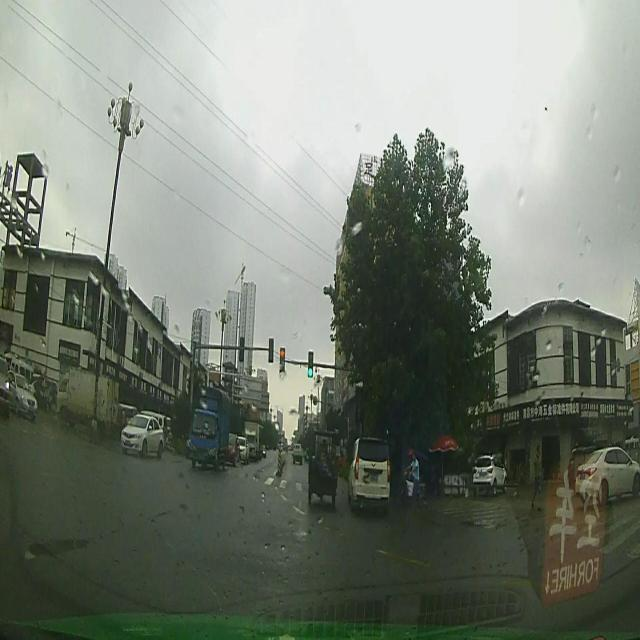car: (572, 445, 640, 501), (348, 432, 392, 510), (120, 412, 167, 456), (1, 369, 39, 419), (470, 450, 508, 494), (234, 434, 249, 462)
